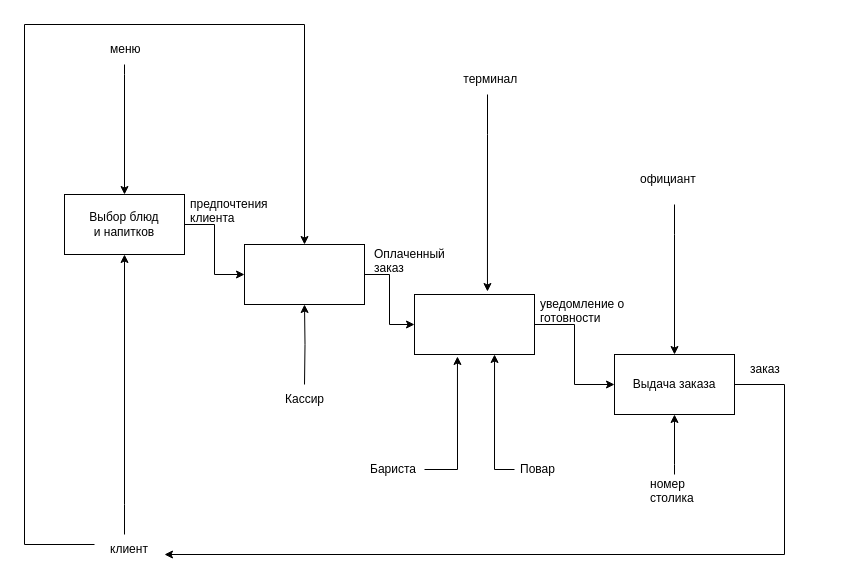
The diagram is 842 pixels wide and 582 high, and some of its shapes have lost their labels. Here are the shapes that lost their labels. From the top down, the centre of each, then its label:
At [304,274]: "Оплата заказа".
At [474,324]: "Приготовление заказа".
